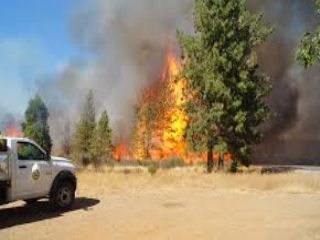fire: (112, 58, 216, 167)
smoke: (42, 5, 146, 146)
